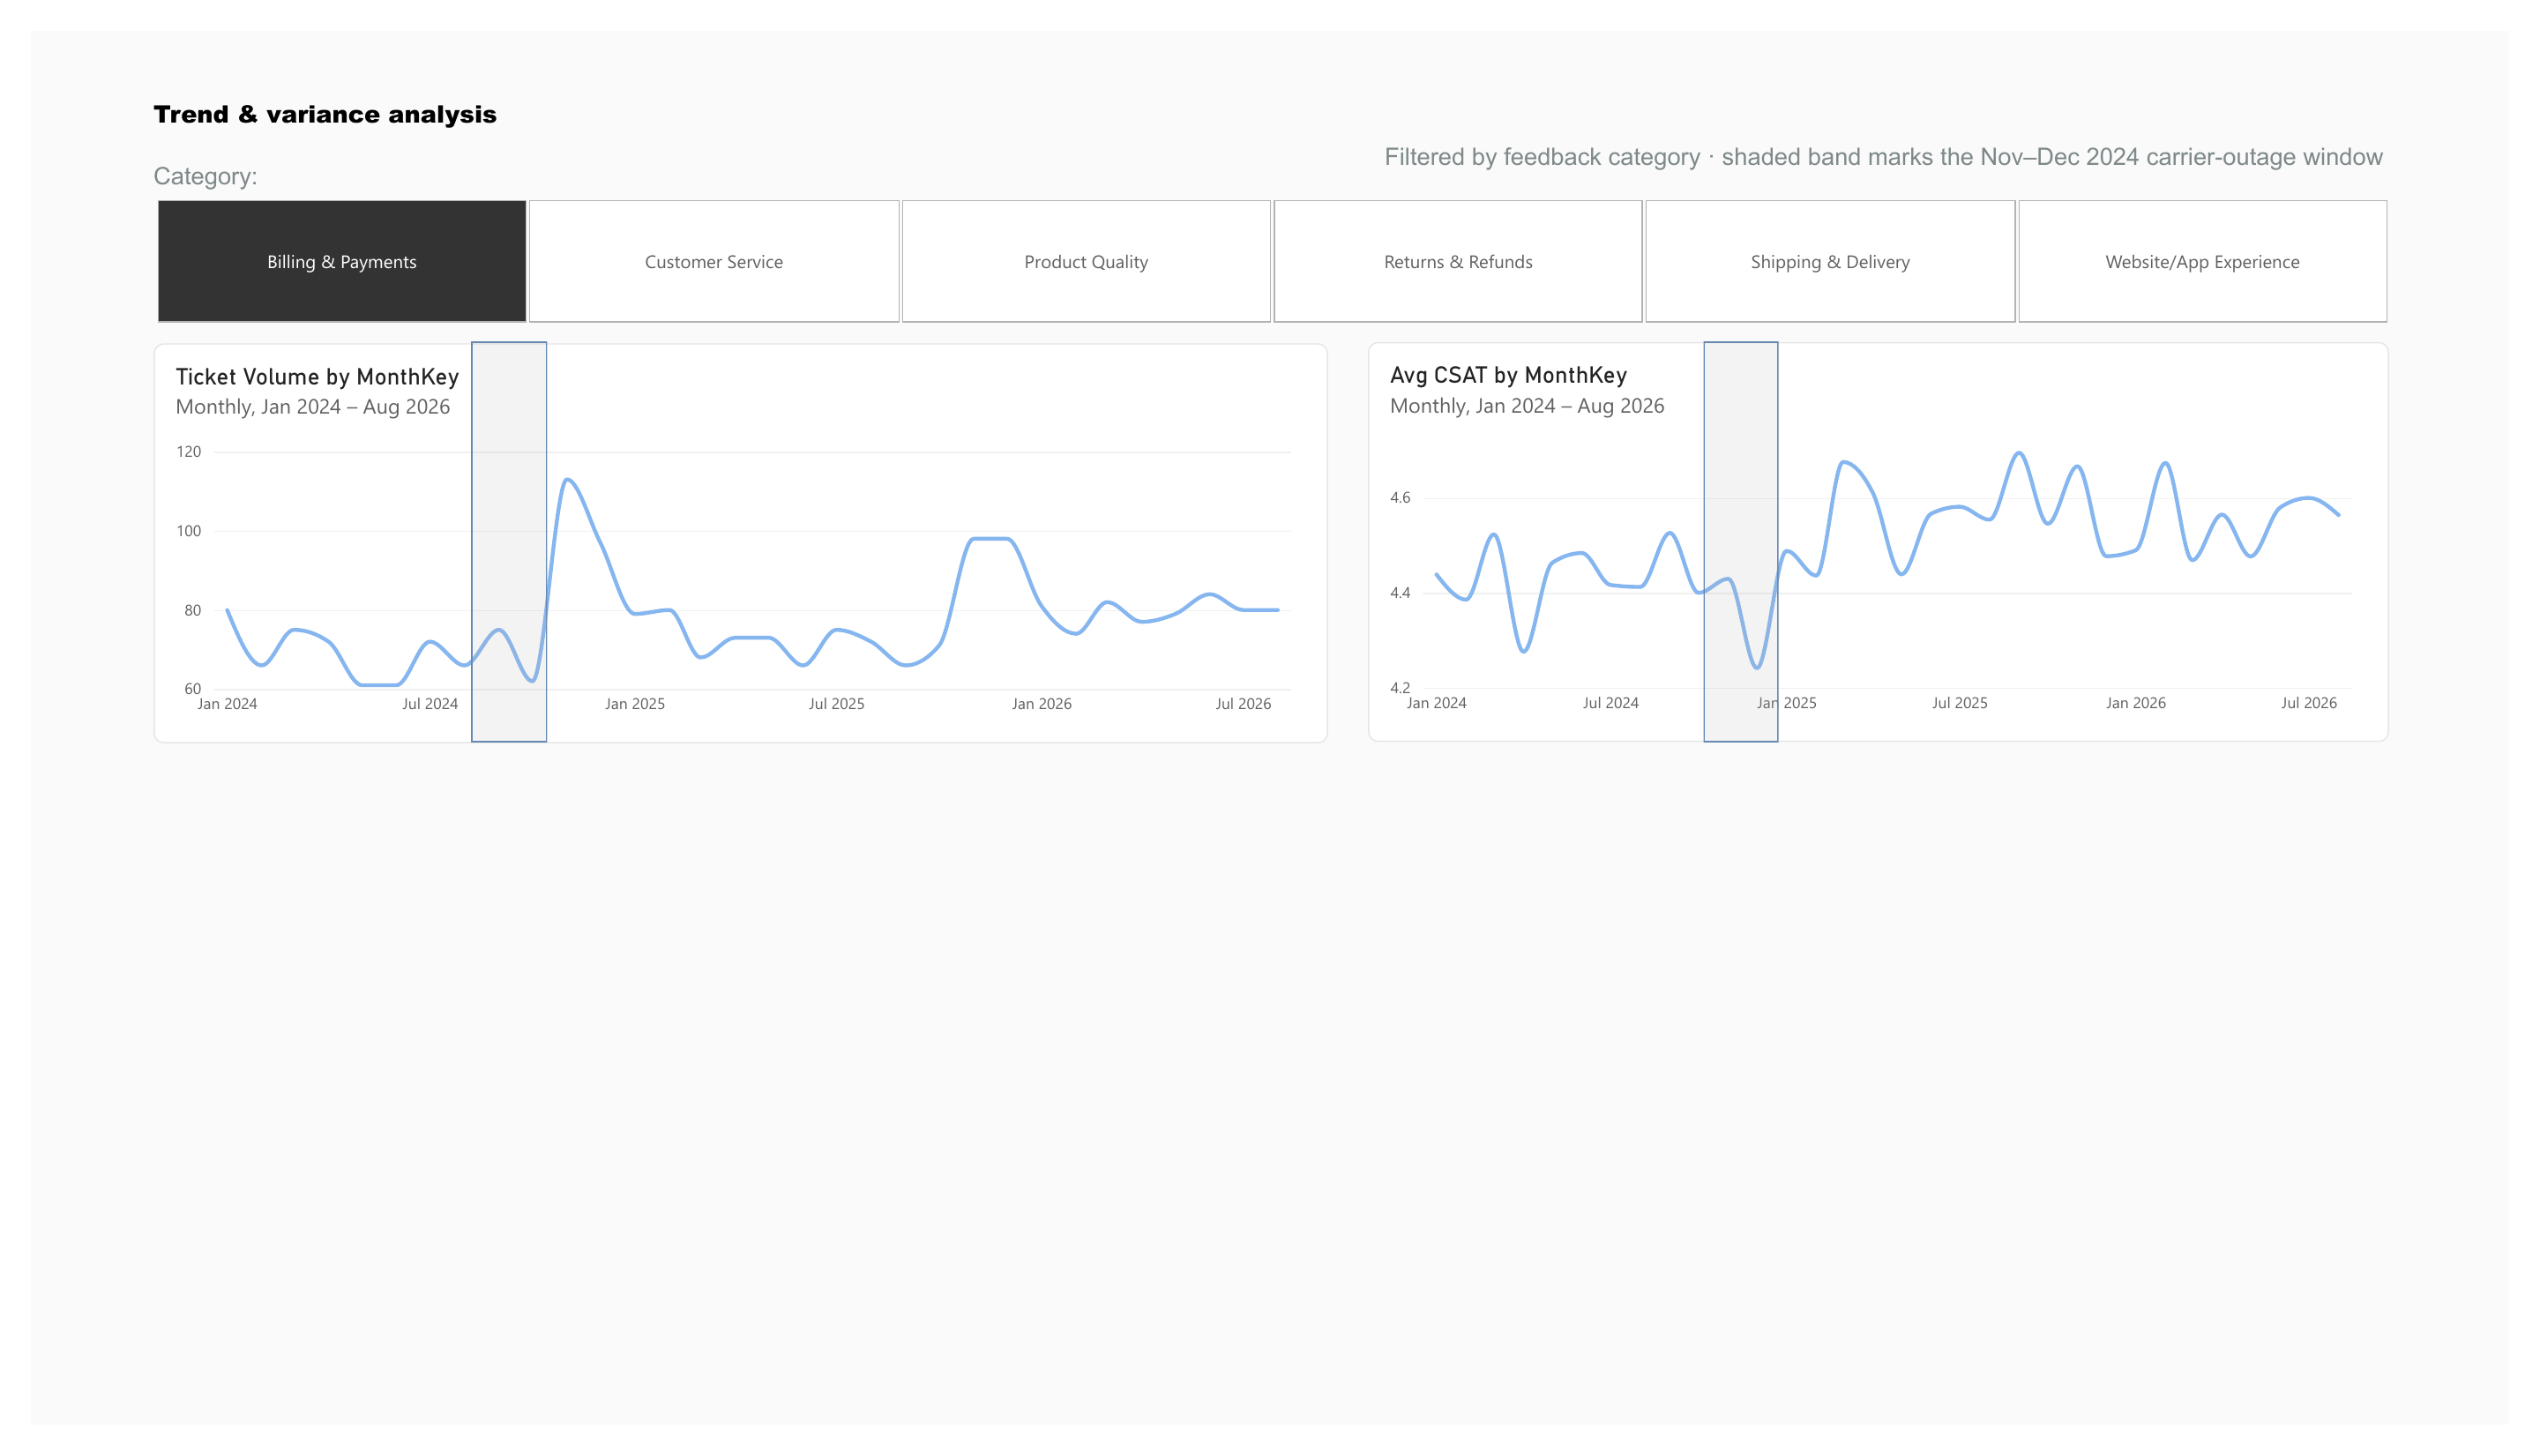

What the dashboard file says about the page in this screenshot:
{"tool":"powerbi","page":{"name":"Trends","canvas":[1920,1080],"ordinal":1},"visuals":[{"type":"slicer","fields":{"Values":["dim_category.Category"]},"box":[76.7,126.7,1768.3,101.7],"z":0},{"type":"lineChart","fields":{"Category":["dim_date.MonthKey"],"Y":["_Measures.Ticket Volume"]},"box":[95,241.7,910,310],"z":1000},{"type":"lineChart","fields":{"Category":["dim_date.MonthKey"],"Y":["_Measures.Avg CSAT"]},"box":[1035.7,241.4,791.4,310],"z":2000},{"type":"shape","box":[341.4,241.4,58.6,310],"z":3000},{"type":"shape","box":[1295.7,241.4,58.6,310],"z":4000},{"type":"textbox","box":[1049,87,795,30],"z":5000},{"type":"textbox","box":[95,50,984.3,51.4],"z":6000},{"type":"textbox","box":[95,101.7,150,41.4],"z":6001}]}

Visuals, with their boxes in screenshot pixels (x1, y1, x2, y2), scaled from the page's 1920x1080 canvas onto the 2540x1456 screenshot:
slicer - dim_category.Category: bbox=(101, 171, 2441, 308)
lineChart - dim_date.MonthKey x _Measures.Ticket Volume: bbox=(125, 325, 1330, 743)
lineChart - dim_date.MonthKey x _Measures.Avg CSAT: bbox=(1371, 325, 2417, 743)
shape: bbox=(452, 325, 529, 743)
shape: bbox=(1714, 325, 1791, 743)
textbox: bbox=(1388, 117, 2439, 158)
textbox: bbox=(125, 67, 1428, 137)
textbox: bbox=(125, 137, 325, 193)
